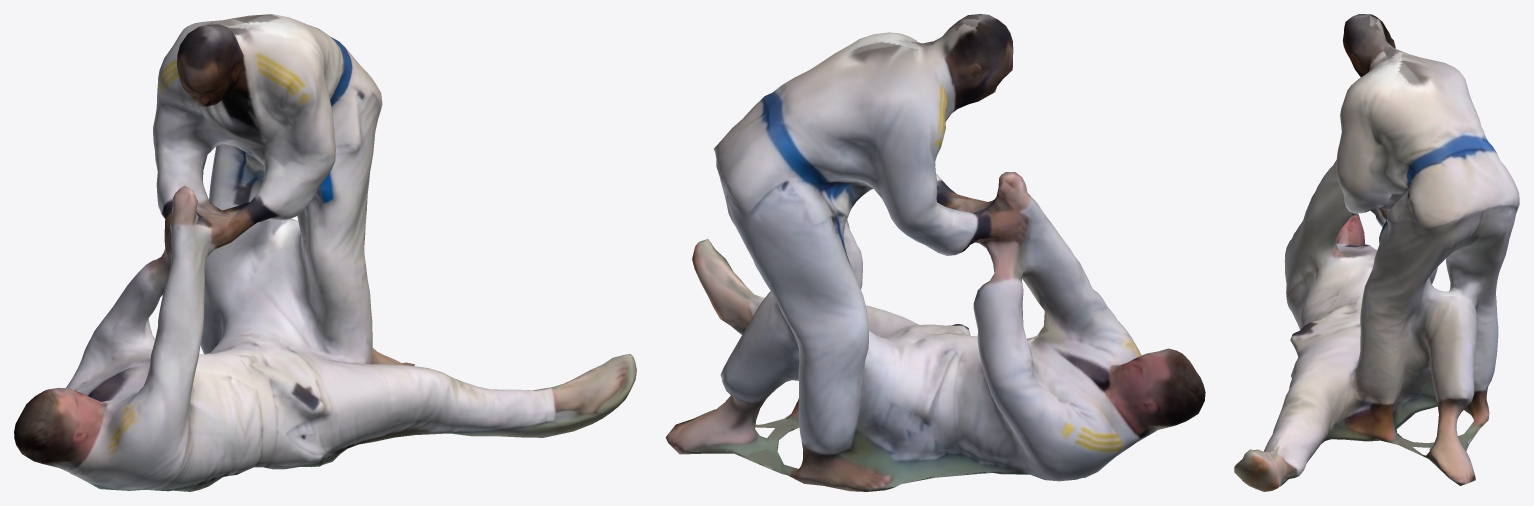
The model's file is hip-throw-5.glb.
The picture shows the model from 3 angles, left to right: view 1: azimuth 30°, elevation 25°; view 2: azimuth 150°, elevation 25°; view 3: azimuth 270°, elevation 25°; orthographic projection. The views are drawn at different scales.
Size of the model in its own units: 1.71 by 1.3 by 0.9118.
Materials: 1 (1 with a texture image).
